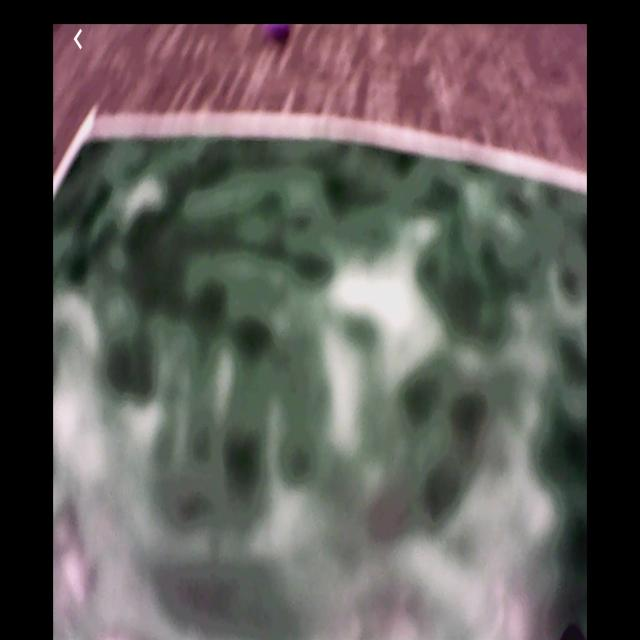ball: (265, 25, 293, 42)
